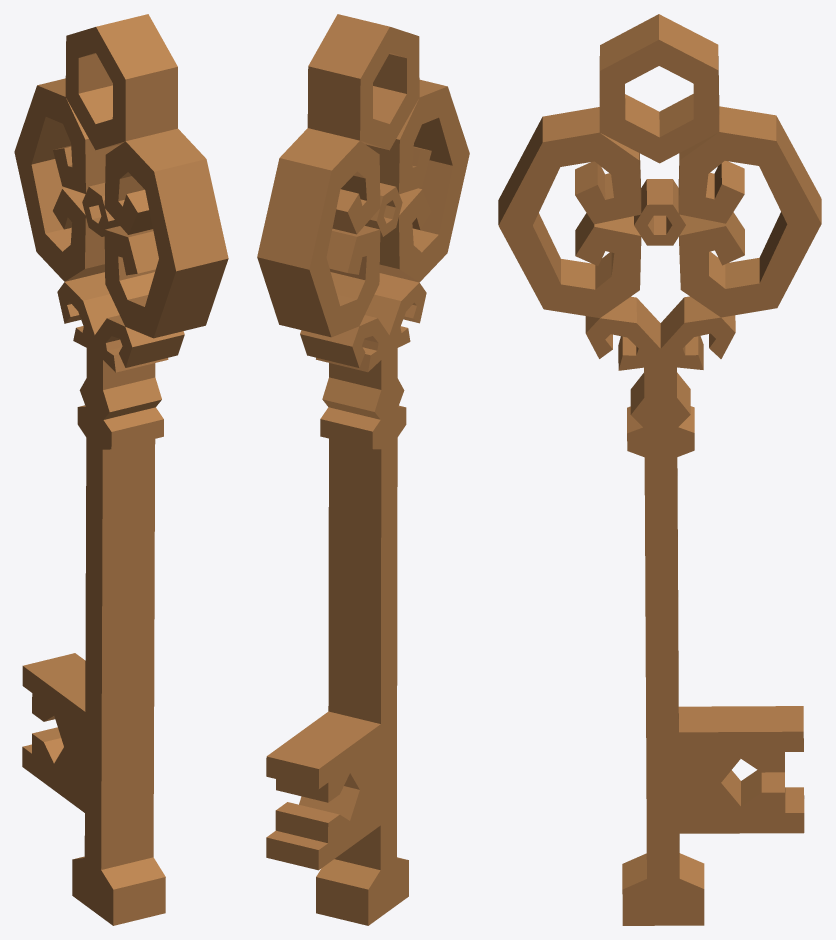
Rendered from Prop_Key.fbx.
3 views of the same model, side by side, from view 1: azimuth 30°, elevation 25°; view 2: azimuth 150°, elevation 25°; view 3: azimuth 270°, elevation 25° (orthographic).
Visible parts, largest first — view 1: singboard_key_a_steampunk.001; view 2: singboard_key_a_steampunk.001; view 3: singboard_key_a_steampunk.001.
Boxes of the visible parts, x1,y1,x2,y2 form: singboard_key_a_steampunk.001: (14,14,228,925); singboard_key_a_steampunk.001: (257,14,469,925); singboard_key_a_steampunk.001: (498,14,821,925).
Bounding box in the file's own units: 0.0295 × 0.4656 × 0.1538.
